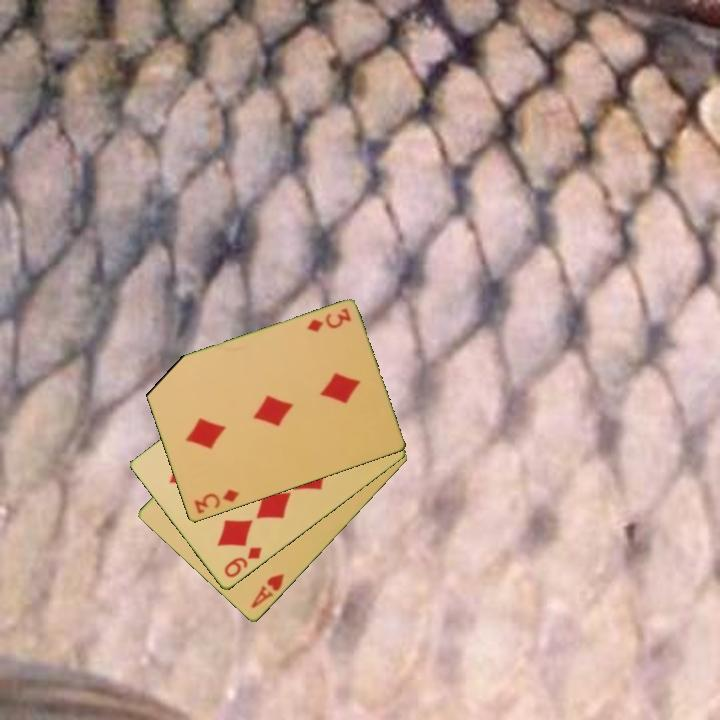3d: (190, 486, 242, 517), (304, 305, 354, 336)
9d: (220, 544, 265, 581)
Ah: (247, 570, 287, 612)
